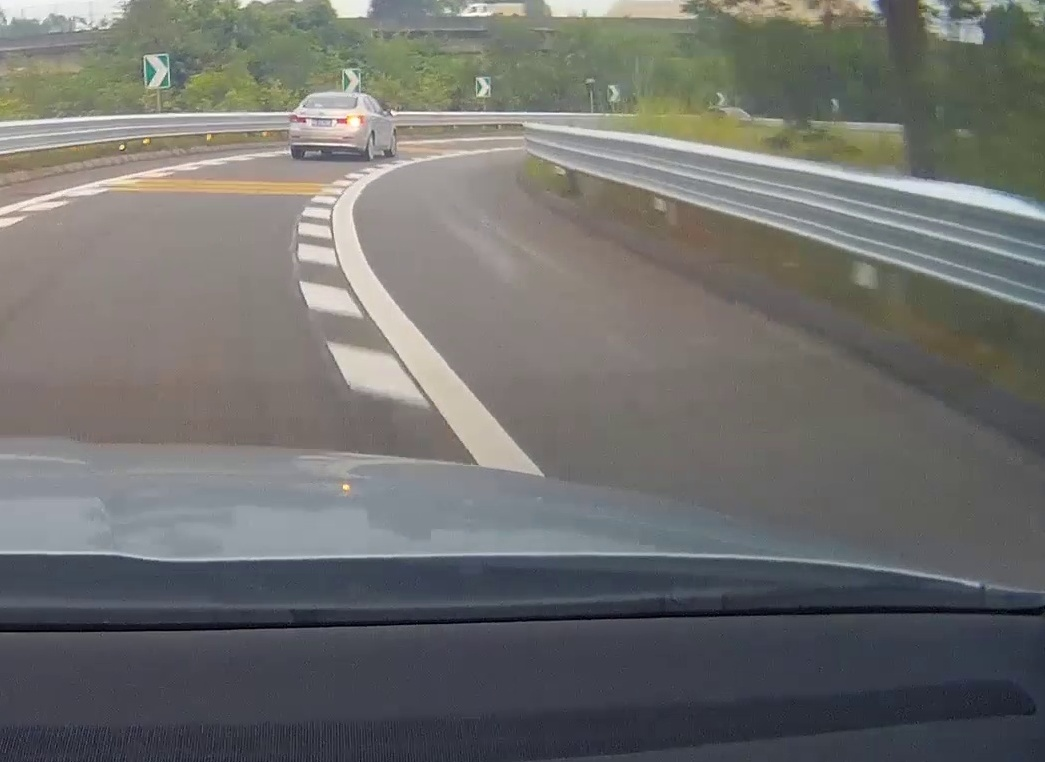L_light: (289, 115, 307, 123)
R_light: (336, 115, 364, 124)
T_light: (328, 96, 340, 98)
day-right: (288, 91, 371, 160)
